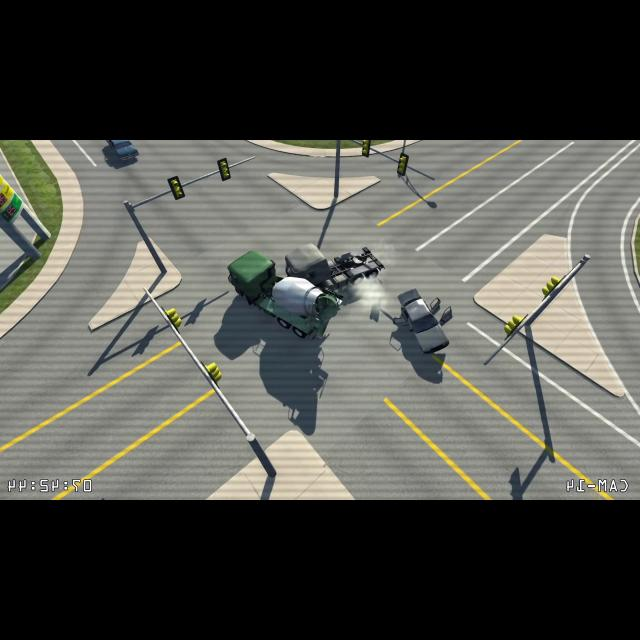accident: (226, 235, 386, 332)
